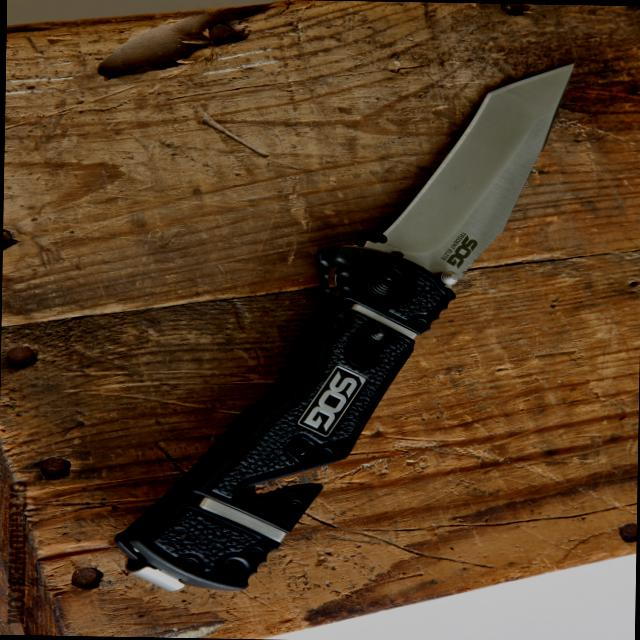knife: (332, 51, 581, 316)
